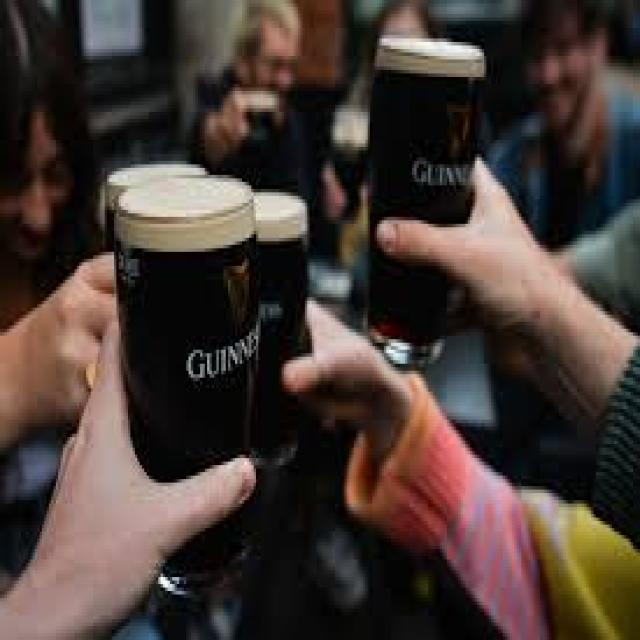guiness_full_glass: (117, 190, 258, 593), (368, 31, 486, 366)
